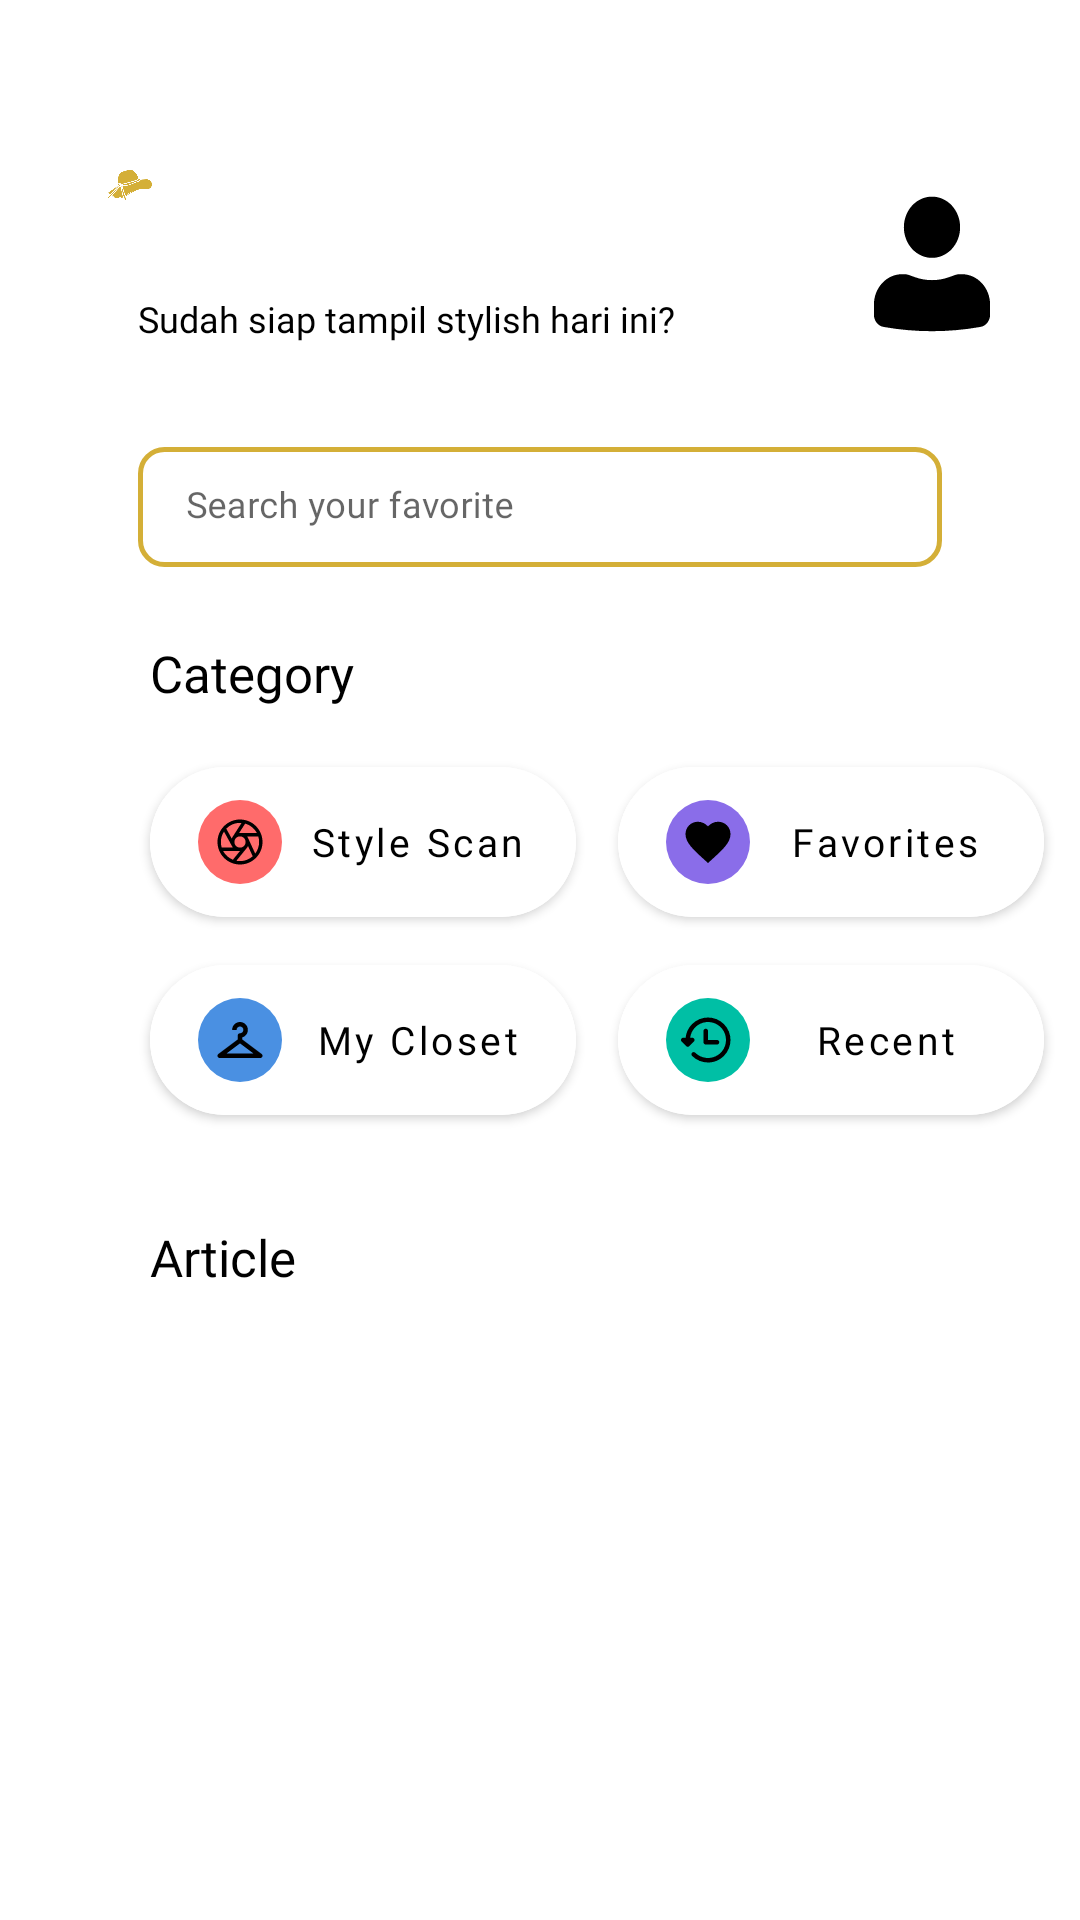

Where icons sit on this 1080 × 1920 app screen, as box(x1, y1, x2, y2):
username: box(874, 196, 990, 332)
